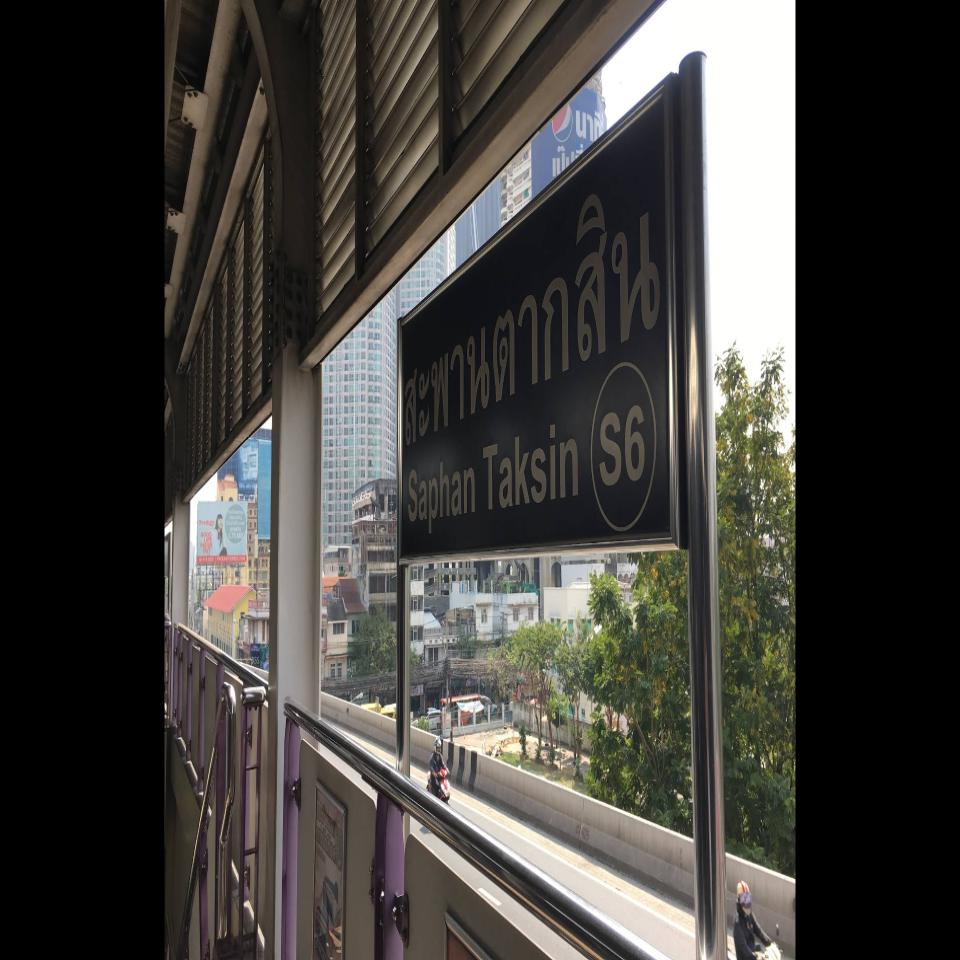signage: (399, 68, 682, 566)
